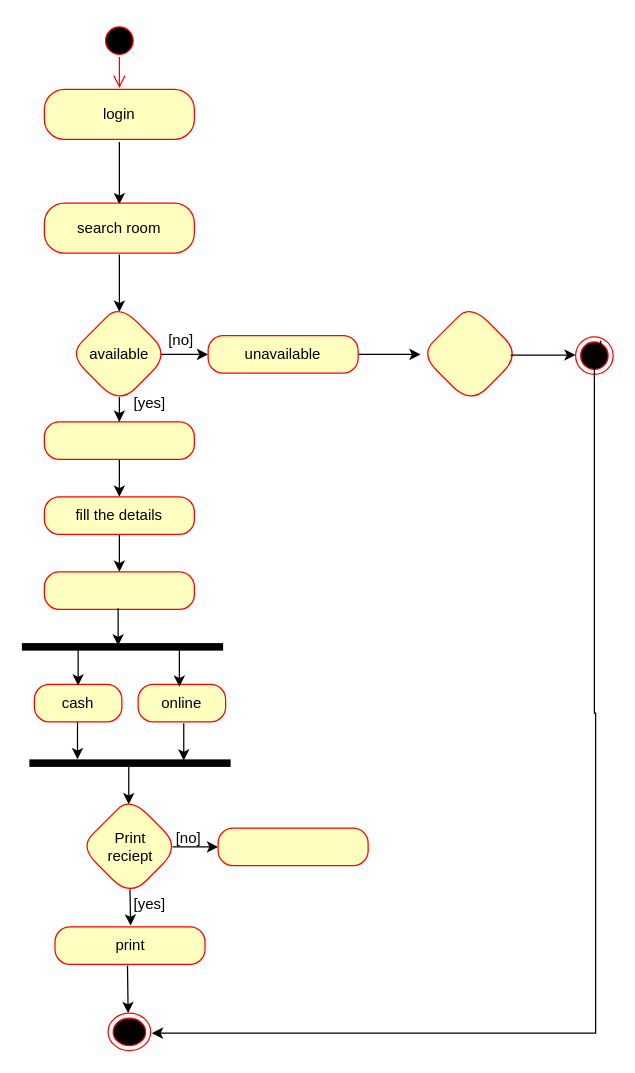
Some shapes in this 635 by 1073 pixel diagram are drawn without their labels. The centre of each missing label's shape, as x and y in pixels:
"book the room" belongs at (118,440).
"email" belongs at (292,846).
"pay" belongs at (118,590).
"search again" belongs at (470,353).
